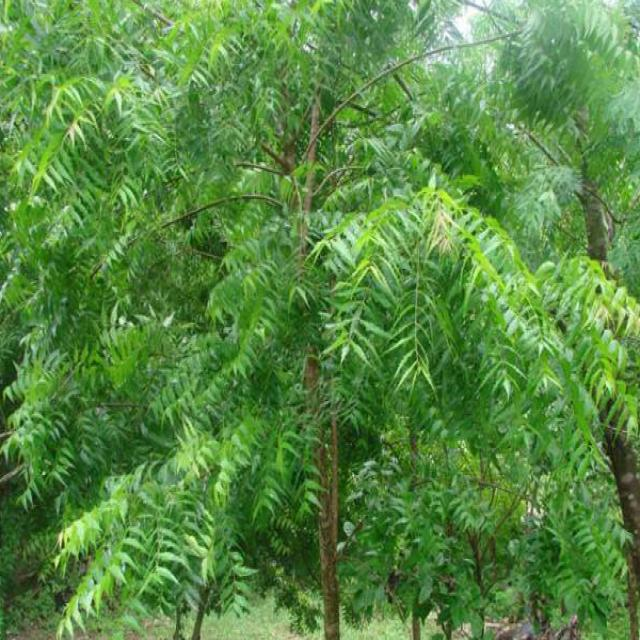Medicinal-Neem: (45, 233, 283, 640), (313, 181, 555, 406), (22, 38, 210, 218), (371, 480, 486, 608)
